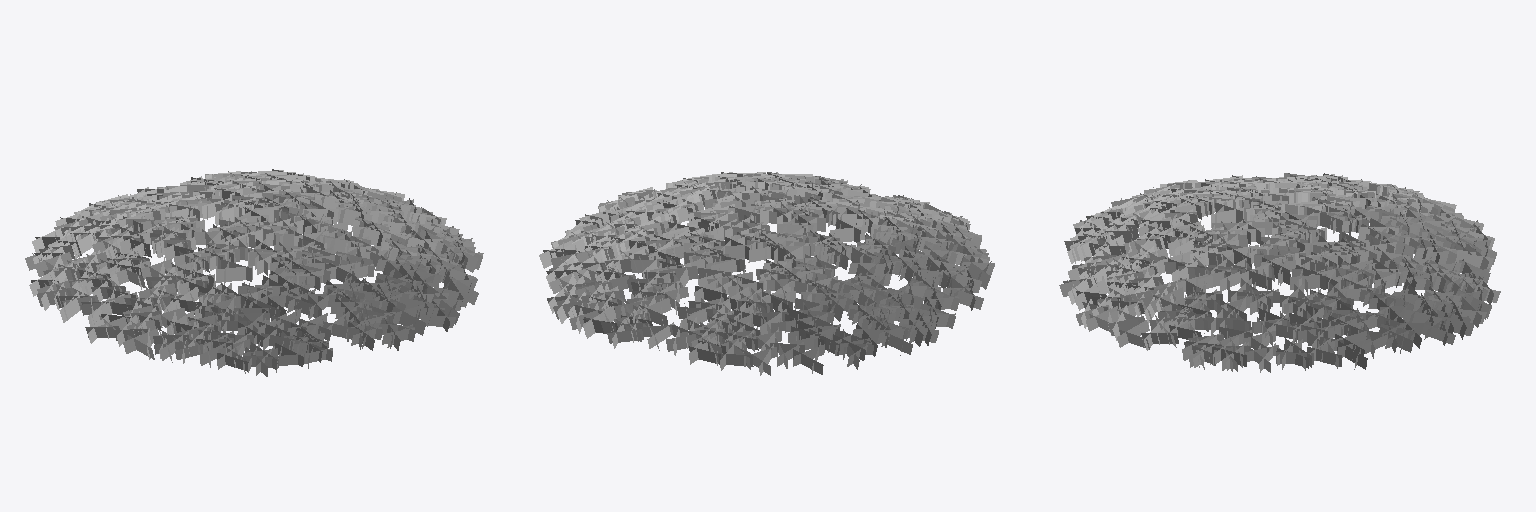
File: sm_grass_terrace05x1.OBJ
3 renders of one model, left to right at view 1: azimuth 30°, elevation 25°; view 2: azimuth 150°, elevation 25°; view 3: azimuth 270°, elevation 25°, orthographic.
Visible parts, largest first — view 1: ZBrushPolyMesh3D; view 2: ZBrushPolyMesh3D; view 3: ZBrushPolyMesh3D.
Part boxes in pixels (x1,y1,x2,y2): ZBrushPolyMesh3D: (25,169,483,376); ZBrushPolyMesh3D: (539,172,994,375); ZBrushPolyMesh3D: (1059,173,1500,372).
Size of the model in its own units: 2.43 by 0.3161 by 2.4.